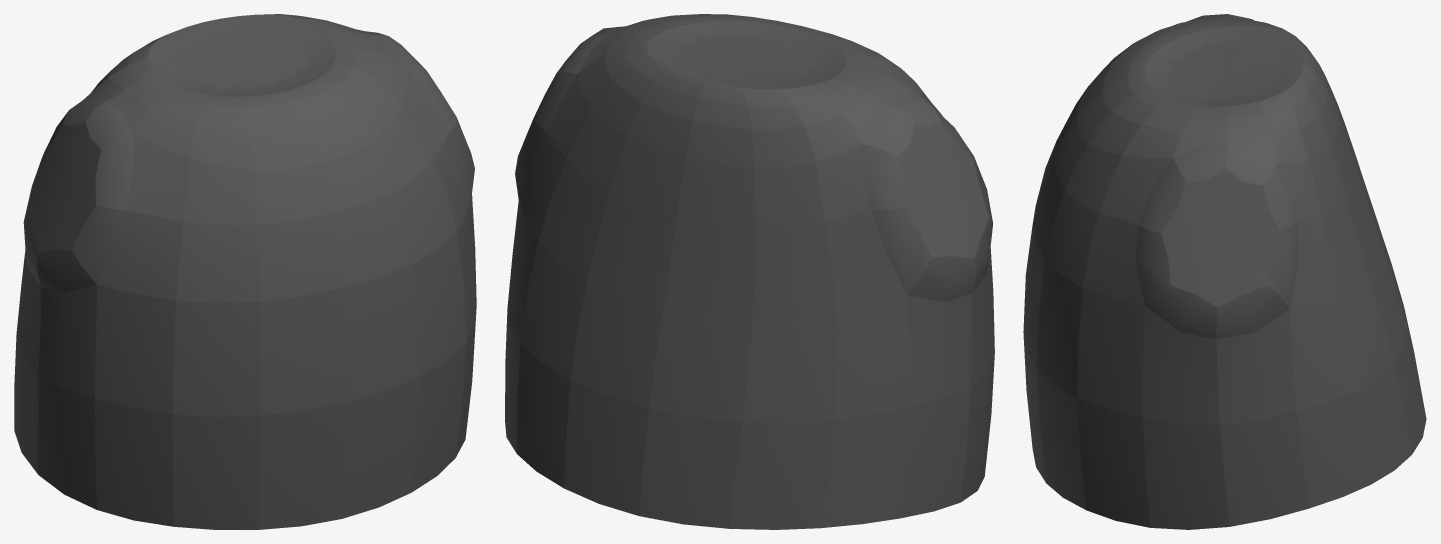
The model's file is iron_chestplate_mesh.fbx.
The picture shows the model from 3 angles, left to right: view 1: azimuth 30°, elevation 25°; view 2: azimuth 150°, elevation 25°; view 3: azimuth 270°, elevation 25°; orthographic projection. The views are drawn at different scales.
Visible parts, largest first — view 1: Iron_ChestPlate; view 2: Iron_ChestPlate; view 3: Iron_ChestPlate.
Part boxes in pixels (x1,y1,x2,y2): Iron_ChestPlate: [14, 14, 476, 529]; Iron_ChestPlate: [505, 14, 994, 529]; Iron_ChestPlate: [1023, 14, 1426, 529].
Bounding box in the file's own units: 56 × 47.43 × 50.17.
